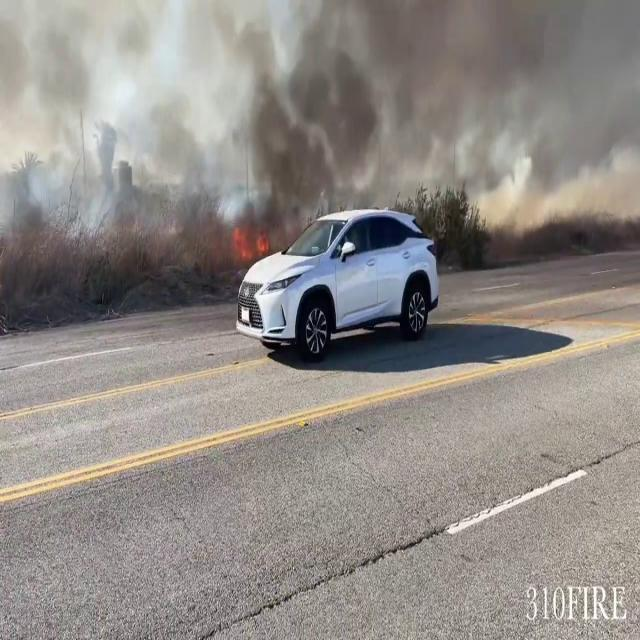Smoke: (0, 0, 246, 309), (226, 0, 448, 242), (430, 0, 640, 249)
